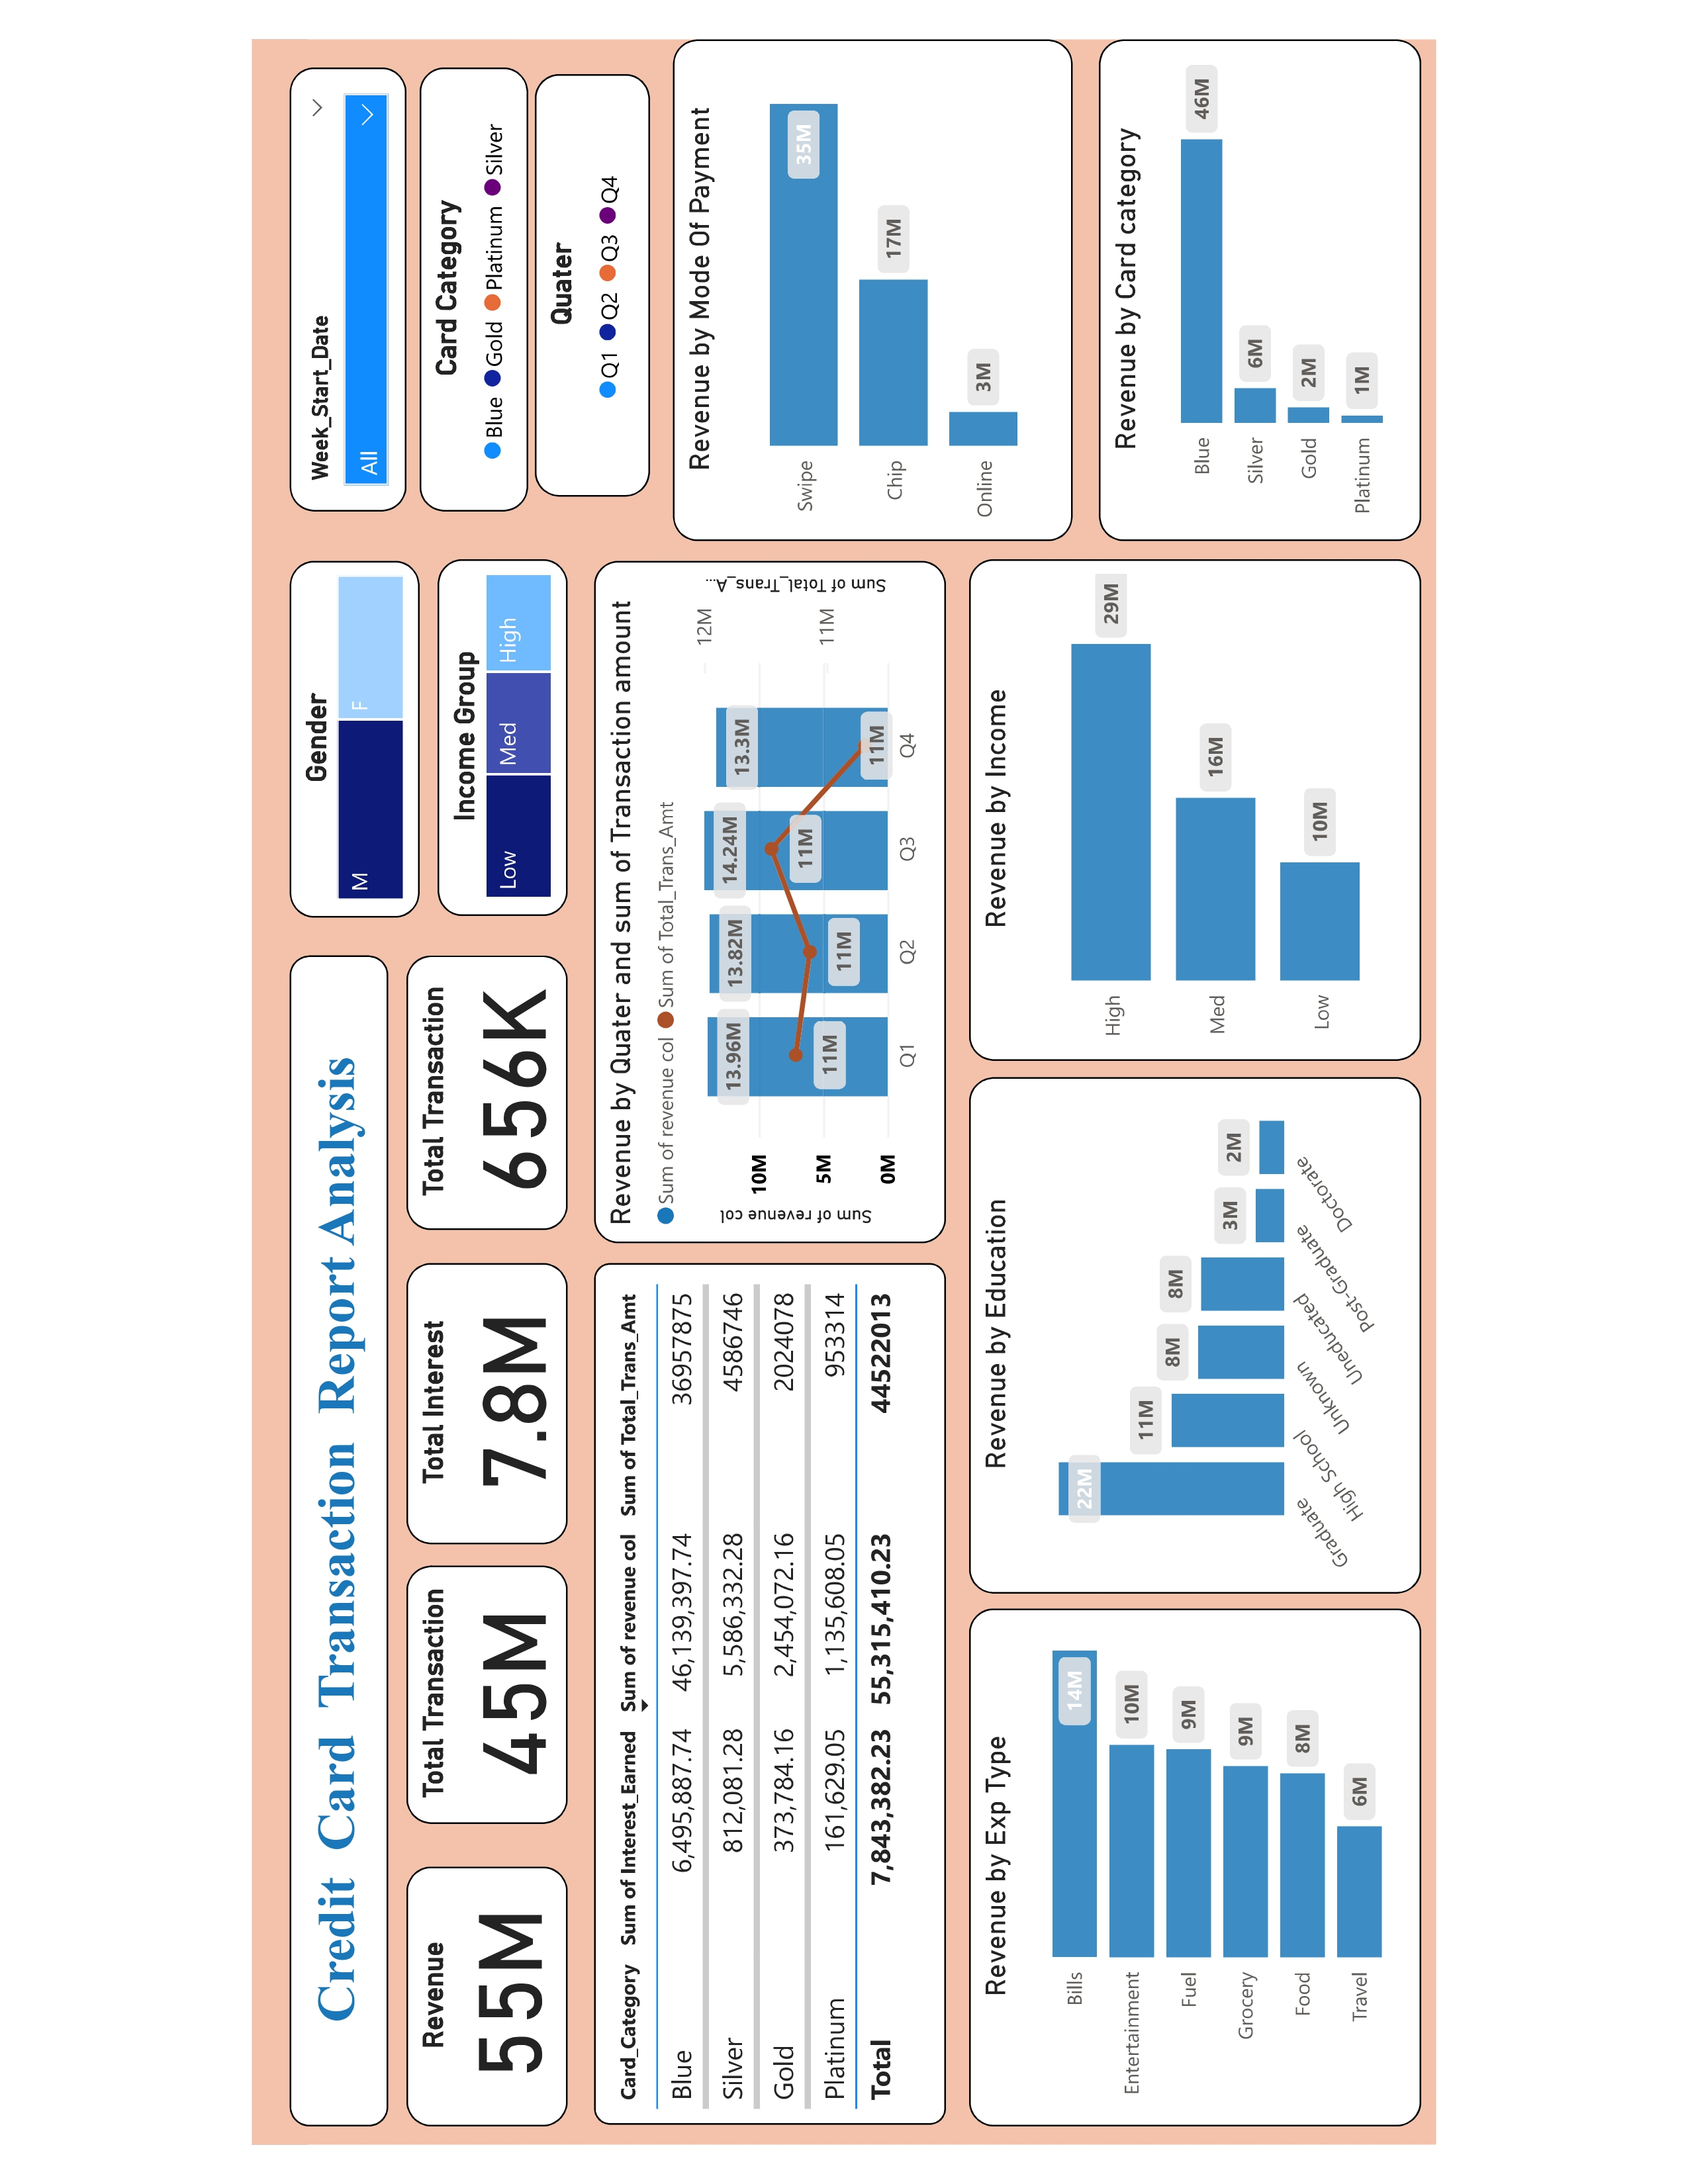

What the dashboard file says about the page in this screenshot:
{"tool":"powerbi","page":{"name":"CC transaction","canvas":[1280,720],"ordinal":0},"visuals":[{"type":"textbox","box":[10.6,22.5,712.4,60.9],"z":0},{"type":"lineStackedColumnComboChart","title":"Revenue by Quater and sum of Transaction amount","fields":{"Category":["credit_card.Qtr"],"Y":["Sum(credit_card.revenue col)"],"Y2":["Sum(credit_card.Total_Trans_Amt)"]},"box":[548.2,207.9,414.5,214.5],"z":1000},{"type":"barChart","title":"Revenue by Exp Type","fields":{"Y":["Sum(credit_card.revenue col)"],"Category":["credit_card.Exp Type"]},"box":[10.6,435.7,315.2,275.4],"z":2000},{"type":"columnChart","title":"Revenue by Education","fields":{"Category":["customer.Education_Level"],"Y":["Sum(credit_card.revenue col)"]},"box":[335,435.7,313.8,275.4],"z":3000},{"type":"clusteredBarChart","title":"Revenue by Income ","fields":{"Category":["customer.Income Grop"],"Y":["Sum(credit_card.revenue col)"]},"box":[659.4,435.7,304.6,275.4],"z":4000},{"type":"barChart","title":"Revenue by Card category","fields":{"Y":["Sum(credit_card.revenue col)"],"Category":["credit_card.Card_Category"]},"box":[974.6,515.1,305.9,196],"z":5000},{"type":"barChart","title":"Revenue by Mode Of Payment","fields":{"Y":["Sum(credit_card.revenue col)"],"Category":["credit_card.Use Chip"]},"box":[974.6,255.6,305.9,243.7],"z":6000},{"type":"tableEx","fields":{"Values":["credit_card.Card_Category","Sum(credit_card.Interest_Earned)","Sum(credit_card.revenue col)","Sum(credit_card.Total_Trans_Amt)"]},"box":[11.9,207.9,524.4,214.5],"z":7000},{"type":"card","title":"Revenue ","fields":{"Values":["Sum(credit_card.revenue col)"]},"box":[10.6,94,158.9,98],"z":8000},{"type":"card","title":"Total Transaction","fields":{"Values":["Sum(credit_card.Total_Trans_Amt)"]},"box":[194.7,94,157.6,98],"z":9000},{"type":"card","title":"Total Interest ","fields":{"Values":["Sum(credit_card.Interest_Earned)"]},"box":[365.5,94,170.8,98],"z":10000},{"type":"card","title":"Total Transaction","fields":{"Values":["Sum(credit_card.Total_Trans_Vol)"]},"box":[556.2,94,166.8,98],"z":11000},{"type":"slicer","fields":{"Values":["credit_card.Week_Start_Date"]},"box":[993.1,22.5,270.1,71.5],"z":12000},{"type":"treemap","title":"Quater","fields":{"Group":["credit_card.Qtr"],"Details":["credit_card.Client_Num"]},"box":[1002.4,172.1,256.9,70.2],"z":13000},{"type":"treemap","title":"Gender","fields":{"Group":["customer.Gender"],"Values":["Sum(credit_card.Total_Trans_Amt)"]},"box":[745.5,22.5,217.2,79.5],"z":14000},{"type":"treemap","title":"Card Category","fields":{"Group":["credit_card.Card_Category"]},"box":[993.1,102,270.1,66.2],"z":15000},{"type":"treemap","title":"Income Group","fields":{"Group":["customer.Income Grop"],"Values":["Sum(credit_card.Customer_Acq_Cost)"]},"box":[746.8,112.6,217.2,79.5],"z":16000}]}

Visuals, with their boxes on the page's 1280x720 design canvas (x1, y1, x2, y2). These are canvas units, not pixel positions in the 1688x2184 screenshot, which may show the page scaled, cropped or inside an application window:
textbox: box(11, 22, 723, 83)
"Revenue by Quater and sum of Transaction amount" lineStackedColumnComboChart: box(548, 208, 963, 422)
"Revenue by Exp Type" barChart: box(11, 436, 326, 711)
"Revenue by Education" columnChart: box(335, 436, 649, 711)
"Revenue by Income " clusteredBarChart: box(659, 436, 964, 711)
"Revenue by Card category" barChart: box(975, 515, 1280, 711)
"Revenue by Mode Of Payment" barChart: box(975, 256, 1280, 499)
tableEx - credit_card.Card_Category x Sum(credit_card.Interest_Earned): box(12, 208, 536, 422)
"Revenue " card: box(11, 94, 170, 192)
"Total Transaction" card: box(195, 94, 352, 192)
"Total Interest " card: box(366, 94, 536, 192)
"Total Transaction" card: box(556, 94, 723, 192)
slicer - credit_card.Week_Start_Date: box(993, 22, 1263, 94)
"Quater" treemap: box(1002, 172, 1259, 242)
"Gender" treemap: box(746, 22, 963, 102)
"Card Category" treemap: box(993, 102, 1263, 168)
"Income Group" treemap: box(747, 113, 964, 192)
